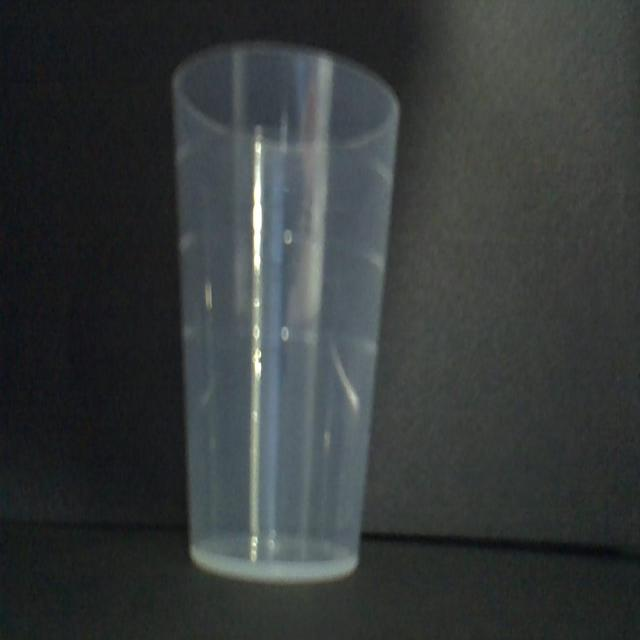cup: (168, 38, 406, 582)
